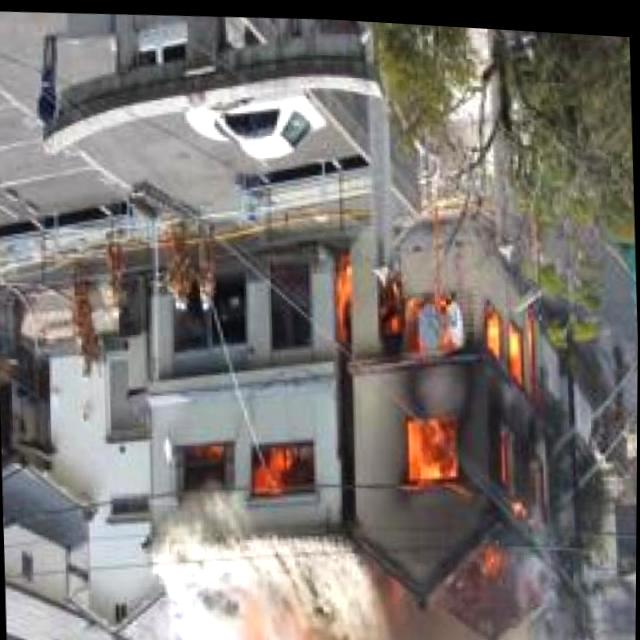fire: (328, 242, 584, 574), (203, 415, 333, 513)
